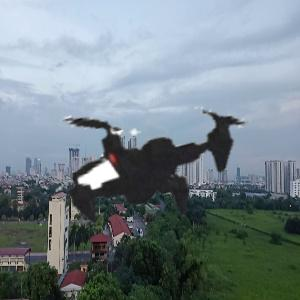drone: (8, 9, 291, 292)
